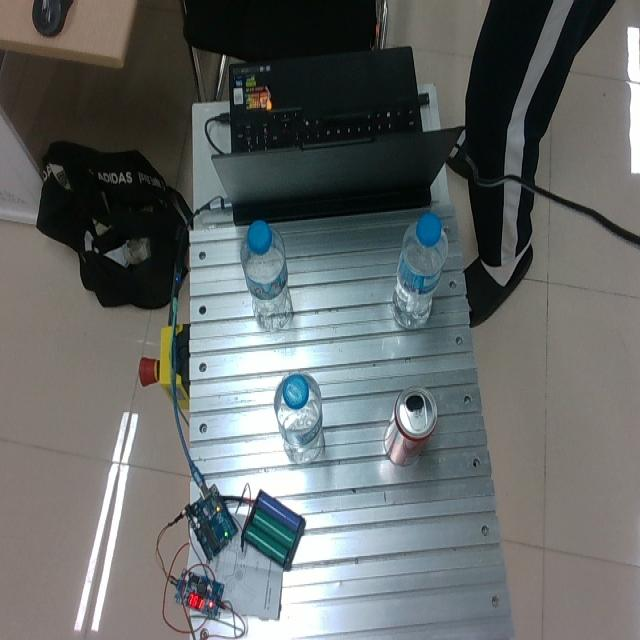coca: (384, 384, 438, 465)
lavie: (392, 213, 448, 328), (240, 219, 292, 332), (274, 370, 323, 462)
